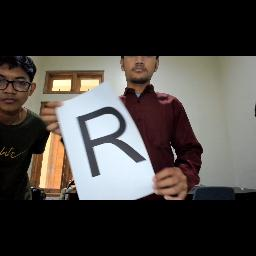r: (70, 106, 154, 178)
